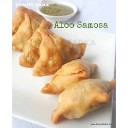samosa: (37, 28, 88, 72), (57, 79, 111, 119), (48, 61, 92, 98), (12, 14, 43, 47)
